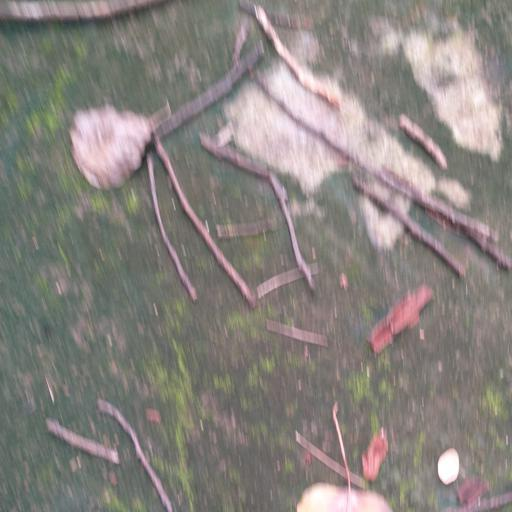algae: (4, 19, 483, 487)
